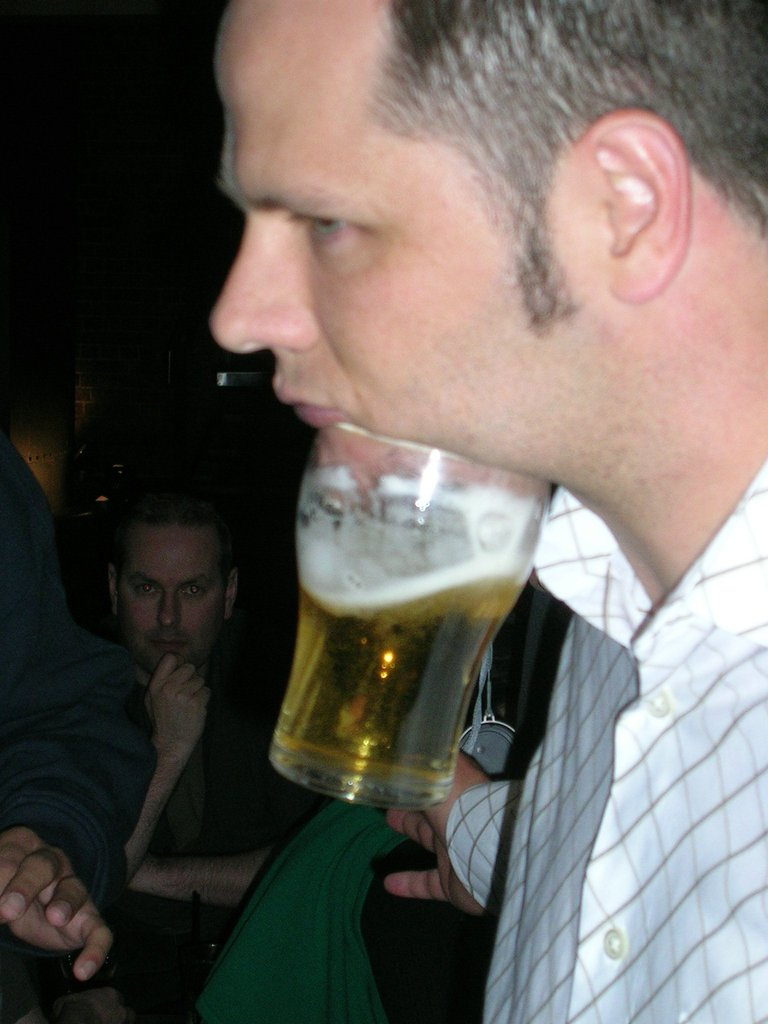Beer: (253, 407, 545, 814)
